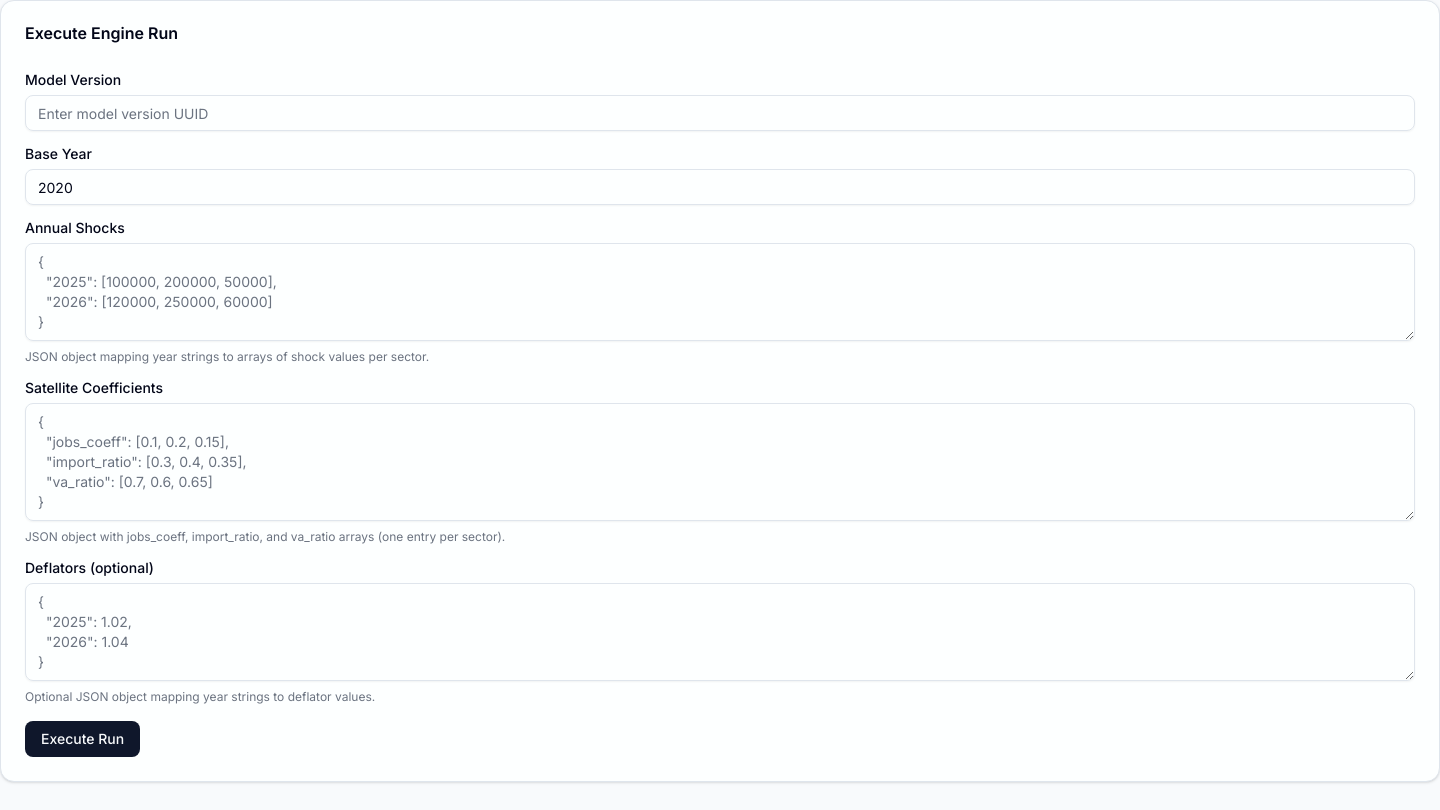
RunForm › shows JSON validation error for invalid annual_shocks
This screenshot has width=1440, height=810.
Type "mv-001" into the field labelled "Model Version" at [720, 113], box [25,95,1415,131]
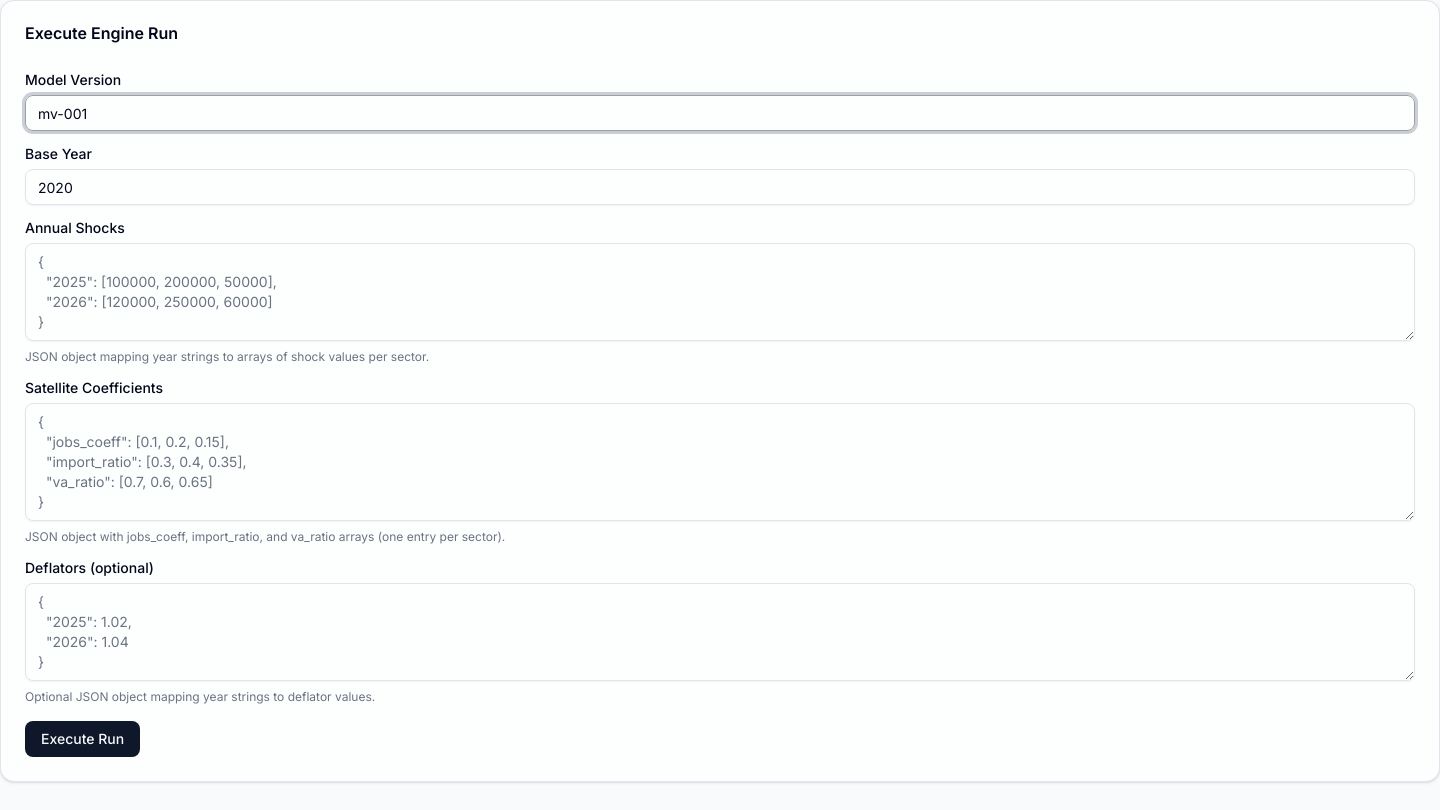
Replace the text in the text box labelled "Annual Shocks" with "not valid json" at [720, 292], box [25,243,1415,341]
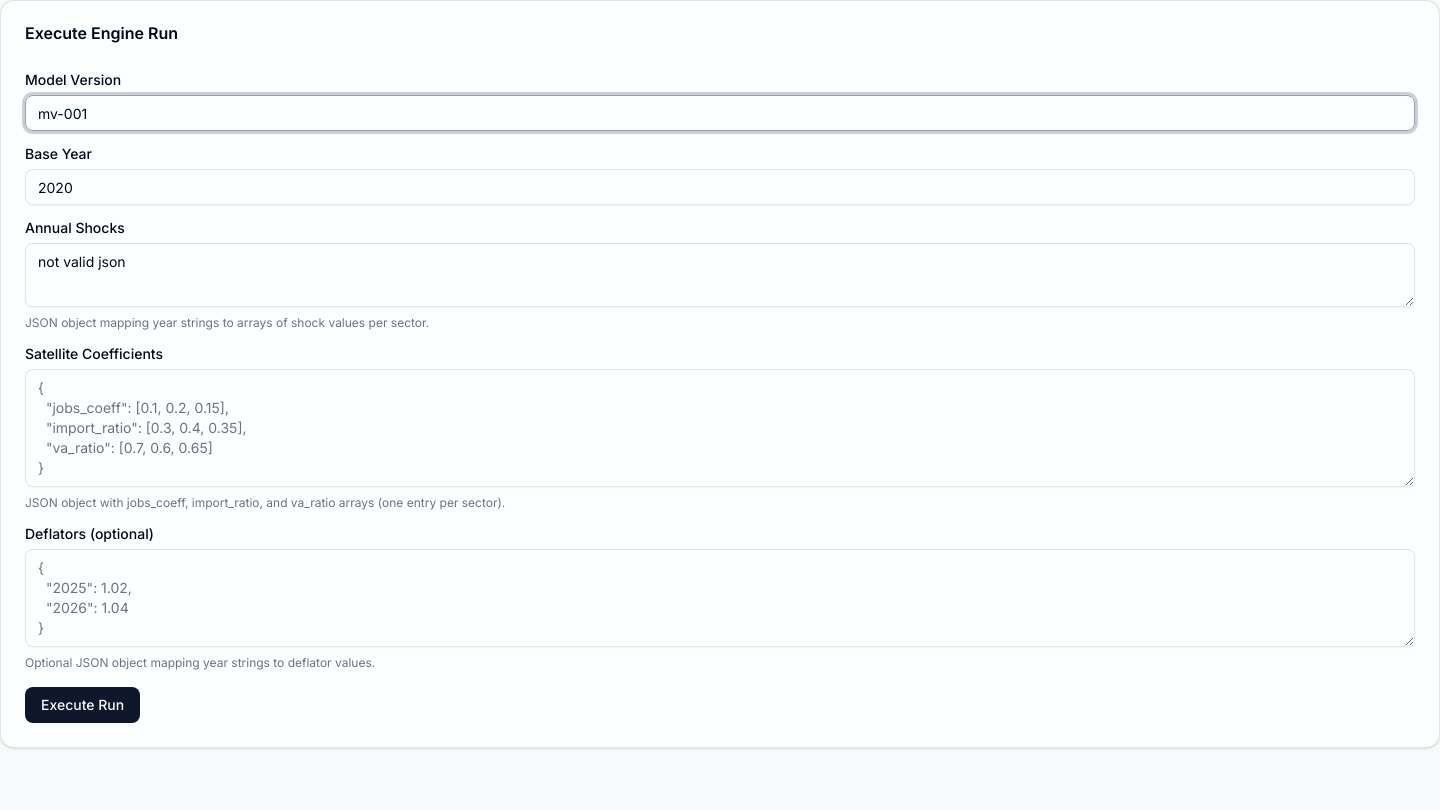
Click the button "Execute Run" at [83, 705], box [25,687,140,723]
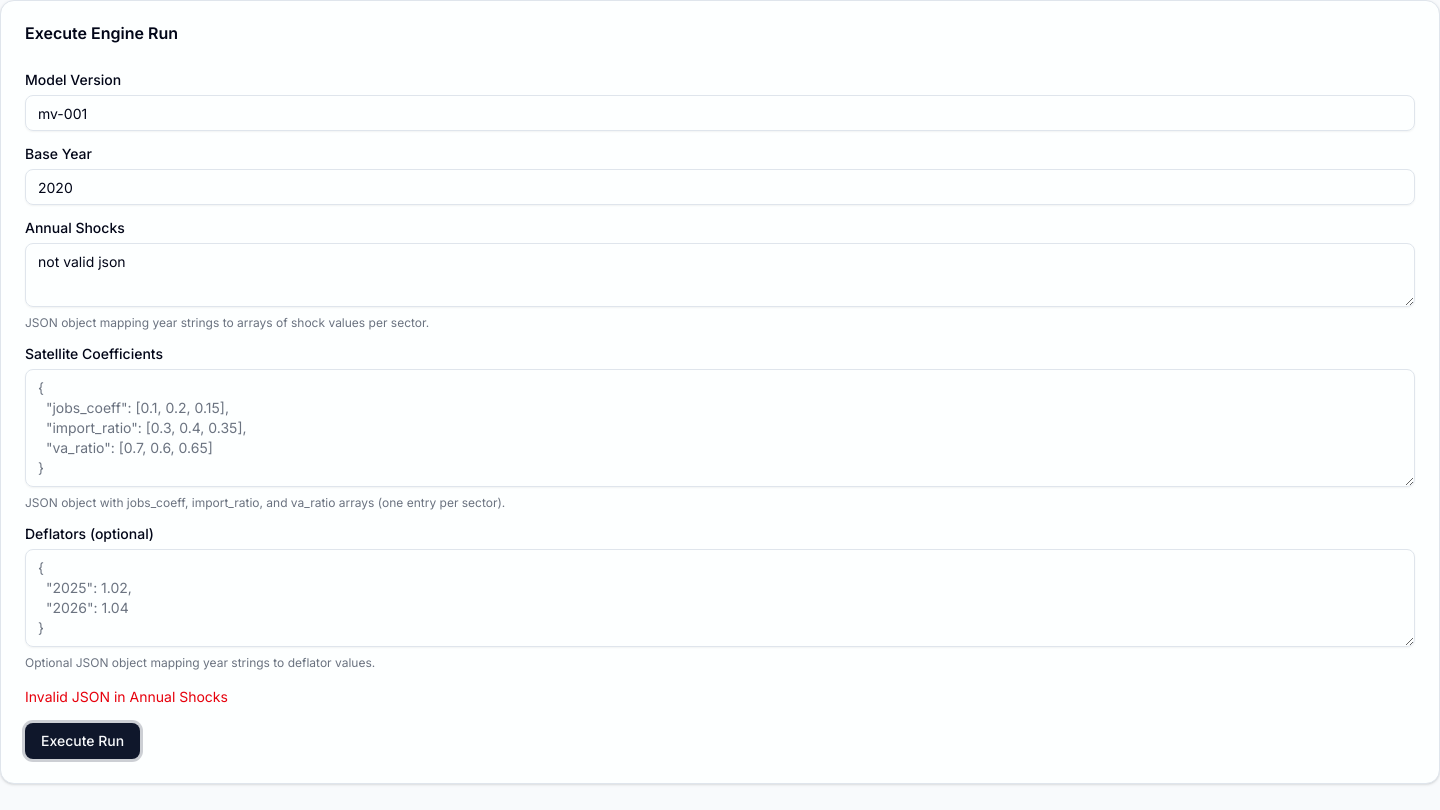
Check: the text "Invalid JSON in Annual Shocks" is shown, box [25,688,228,705]
